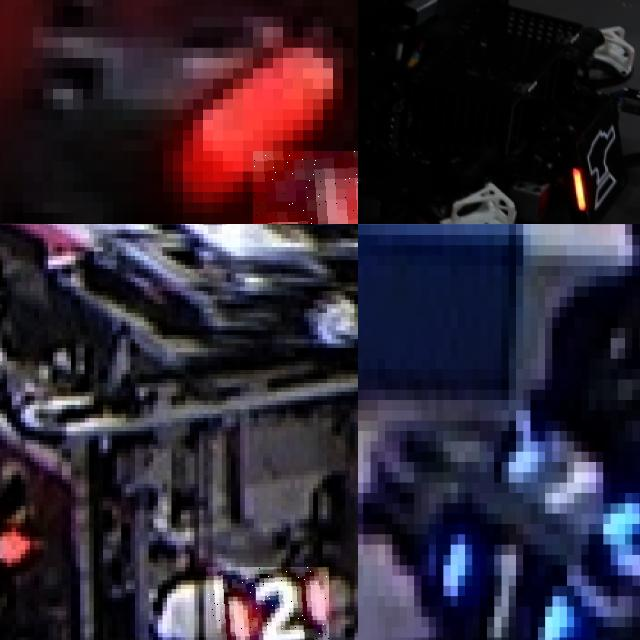B1: (436, 523, 596, 640), (494, 420, 640, 544)
R2: (205, 567, 329, 640)
R4: (253, 150, 358, 224)
Rs: (568, 121, 628, 213)
